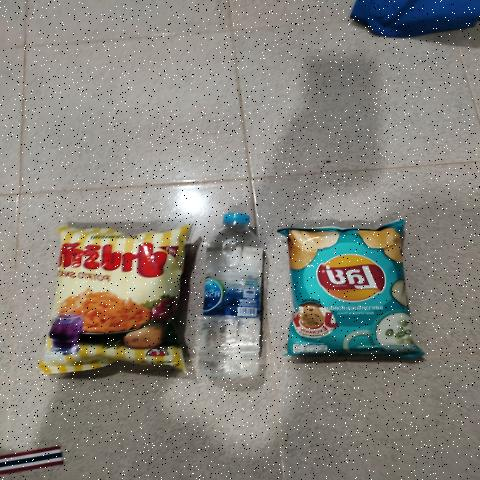crystal: (196, 209, 273, 376)
lay_blue: (291, 228, 403, 360)
paprika: (43, 228, 187, 373)
